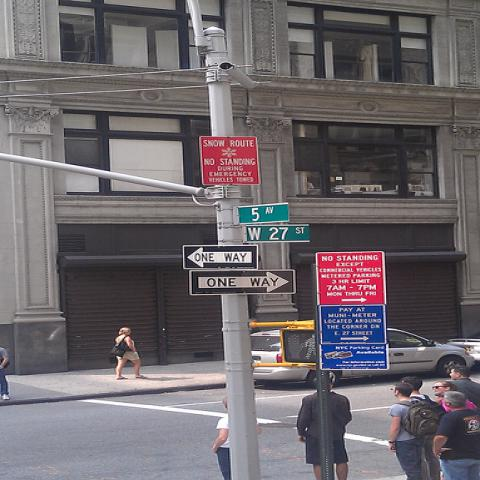car: (251, 327, 475, 389), (447, 330, 479, 362)
